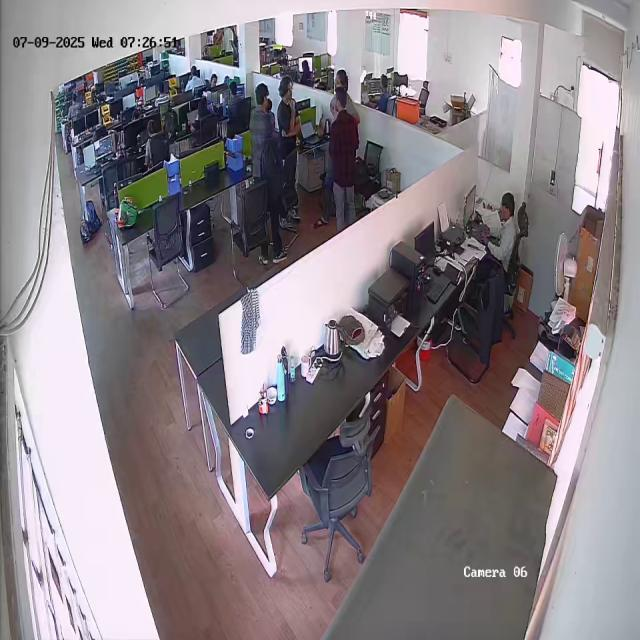person: (248, 83, 287, 264), (324, 86, 357, 233), (276, 74, 302, 224), (480, 193, 519, 260)
